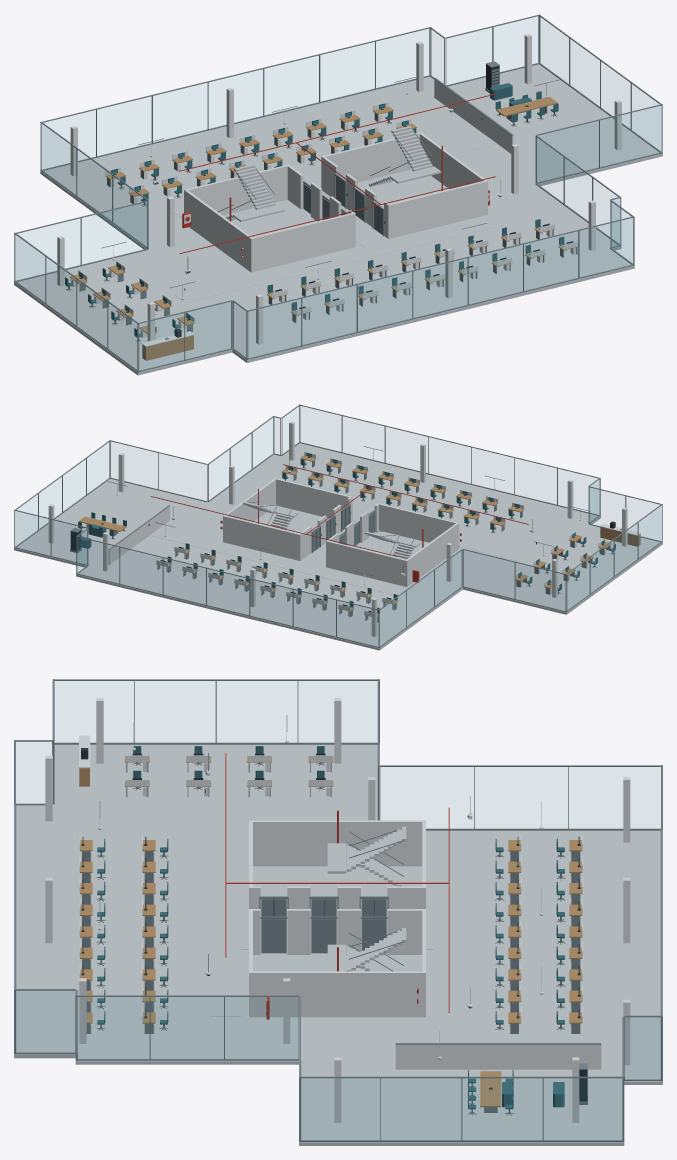
The picture shows the model from 3 angles, top to bottom: view 1: azimuth 30°, elevation 25°; view 2: azimuth 150°, elevation 25°; view 3: azimuth 270°, elevation 25°; orthographic projection. The views are drawn at different scales.
Visible parts, largest first — view 1: T1_F10_SLAB, T1_F10_WHITE, T1_F10_GLASS_S, T1_F10_GLASS_N, T1_F10_STEEL, T1_F10_GLASS_W, T1_F10_GLASS_E, T1_F10_WOOD, T1_F10_FABRIC, T1_F10_RED, T1_F10_DARK, T1_F10_SCREEN; view 2: T1_F10_SLAB, T1_F10_WHITE, T1_F10_GLASS_N, T1_F10_GLASS_S, T1_F10_STEEL, T1_F10_GLASS_W, T1_F10_GLASS_E, T1_F10_WOOD, T1_F10_FABRIC, T1_F10_DARK, T1_F10_RED; view 3: T1_F10_SLAB, T1_F10_WHITE, T1_F10_GLASS_E, T1_F10_GLASS_W, T1_F10_STEEL, T1_F10_WOOD, T1_F10_FABRIC, T1_F10_DARK, T1_F10_RED.
Boxes of the visible parts, left/top/right/bottom form: T1_F10_SLAB: left=14, top=64, right=662, bottom=375; T1_F10_WHITE: left=57, top=34, right=621, bottom=346; T1_F10_GLASS_S: left=140, top=106, right=660, bottom=370; T1_F10_GLASS_N: left=19, top=17, right=538, bottom=267; T1_F10_STEEL: left=14, top=14, right=662, bottom=372; T1_F10_GLASS_W: left=15, top=125, right=245, bottom=369; T1_F10_GLASS_E: left=431, top=18, right=657, bottom=243; T1_F10_WOOD: left=70, top=97, right=578, bottom=360; T1_F10_FABRIC: left=65, top=83, right=565, bottom=337; T1_F10_RED: left=179, top=93, right=496, bottom=258; T1_F10_DARK: left=68, top=64, right=573, bottom=339; T1_F10_SCREEN: left=79, top=104, right=501, bottom=319; T1_F10_SLAB: left=14, top=443, right=662, bottom=650; T1_F10_WHITE: left=48, top=421, right=641, bottom=636; T1_F10_GLASS_N: left=15, top=512, right=564, bottom=646; T1_F10_GLASS_S: left=110, top=406, right=657, bottom=527; T1_F10_STEEL: left=14, top=404, right=662, bottom=648; T1_F10_GLASS_W: left=380, top=480, right=661, bottom=645; T1_F10_GLASS_E: left=18, top=408, right=298, bottom=536; T1_F10_WOOD: left=78, top=455, right=640, bottom=616; T1_F10_FABRIC: left=78, top=459, right=615, bottom=613; T1_F10_DARK: left=70, top=453, right=615, bottom=612; T1_F10_RED: left=150, top=464, right=528, bottom=582; T1_F10_SLAB: left=14, top=744, right=662, bottom=1145; T1_F10_WHITE: left=45, top=698, right=630, bottom=1122; T1_F10_GLASS_E: left=16, top=991, right=660, bottom=1139; T1_F10_GLASS_W: left=16, top=681, right=660, bottom=828; T1_F10_STEEL: left=14, top=679, right=662, bottom=1141; T1_F10_WOOD: left=79, top=756, right=582, bottom=1107; T1_F10_FABRIC: left=97, top=746, right=564, bottom=1109; T1_F10_DARK: left=81, top=748, right=587, bottom=1112; T1_F10_RED: left=225, top=753, right=449, bottom=1019.
Size of the model in its own units: 55.47 by 4.5 by 38.19.
